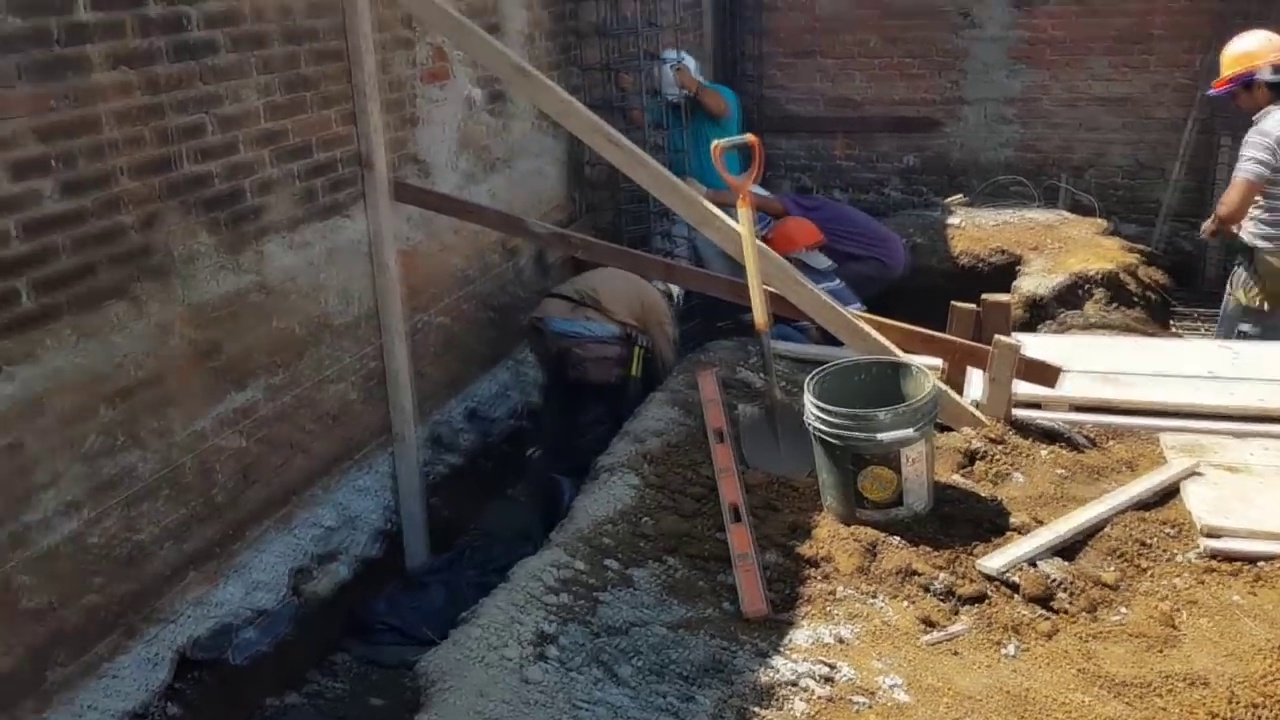helmet: (1212, 30, 1273, 86), (761, 216, 824, 255), (655, 53, 700, 100)
helmet-on: (1202, 31, 1276, 118), (761, 217, 835, 285), (655, 53, 708, 105)
person: (1180, 26, 1277, 368), (621, 44, 745, 294), (524, 267, 684, 407), (751, 182, 907, 301), (761, 217, 866, 311)
